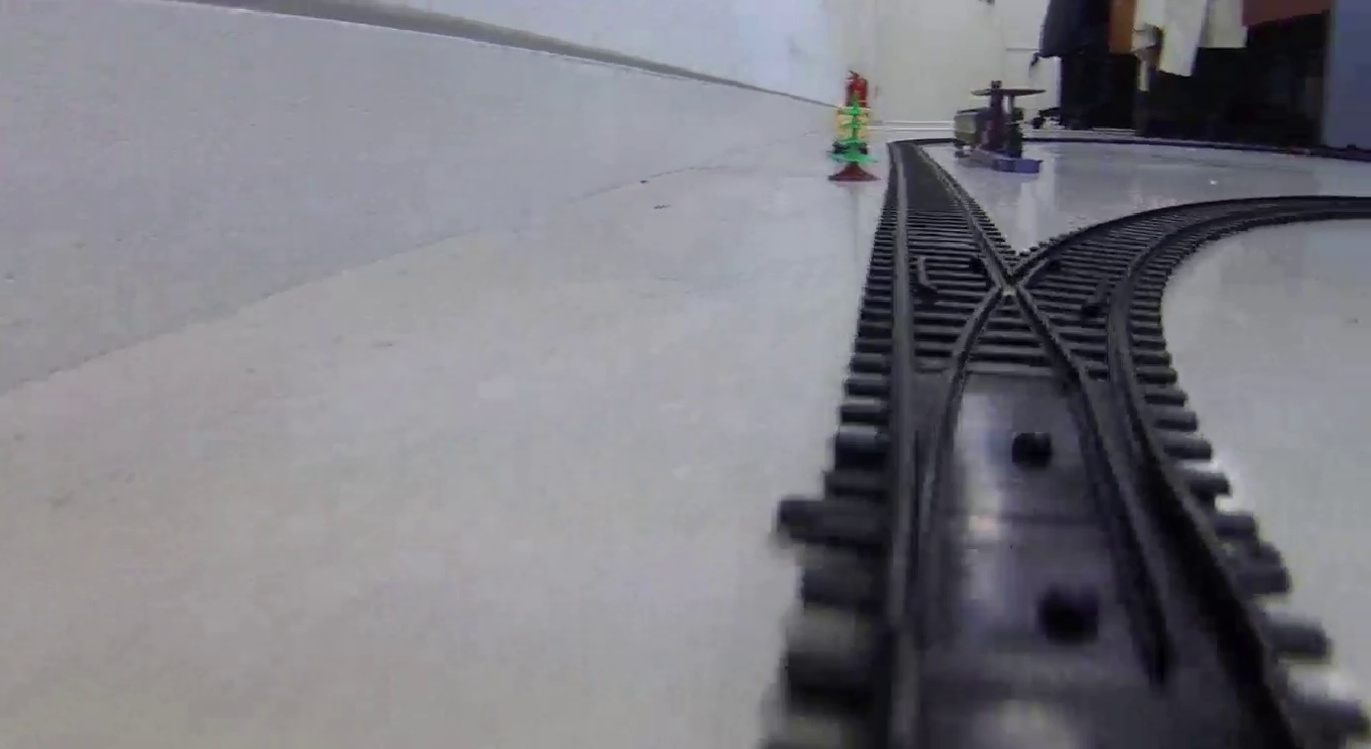tree: (829, 93, 880, 184)
